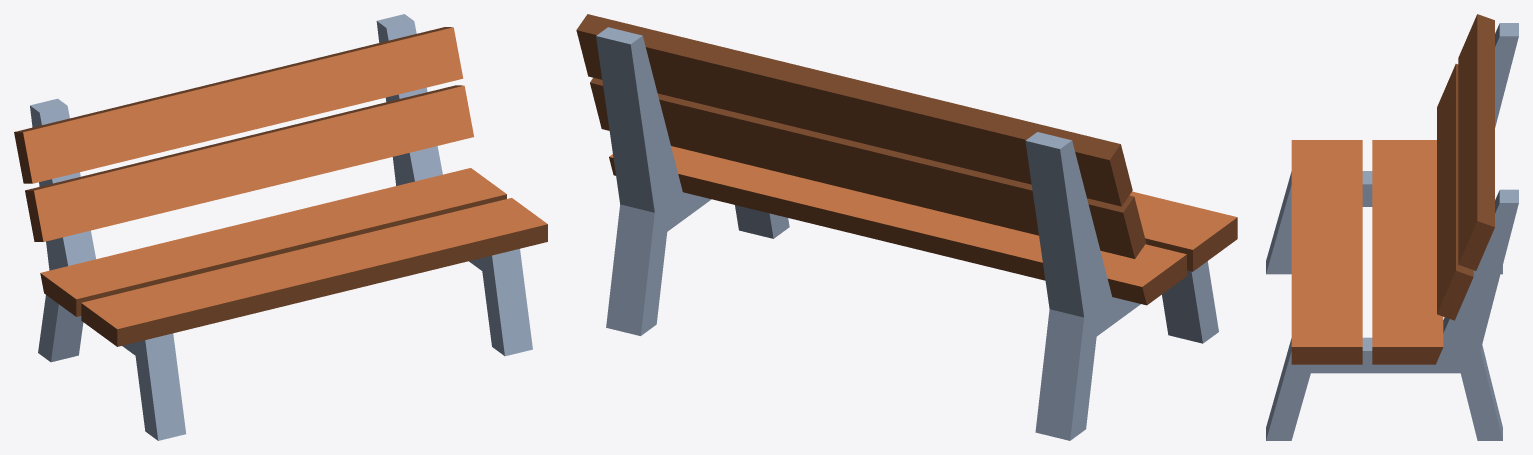
File: bench.fbx
3 views of the same model, side by side, from view 1: azimuth 30°, elevation 25°; view 2: azimuth 150°, elevation 25°; view 3: azimuth 270°, elevation 25° (orthographic). The views are drawn at different scales.
Visible parts, largest first — view 1: bench; view 2: bench; view 3: bench.
Boxes of the visible parts, bbox=[...] form: bench: bbox=[14, 14, 547, 440]; bench: bbox=[576, 14, 1237, 440]; bench: bbox=[1266, 14, 1518, 440].
Size of the model in its own units: 6.06 by 3.25 by 3.13.
